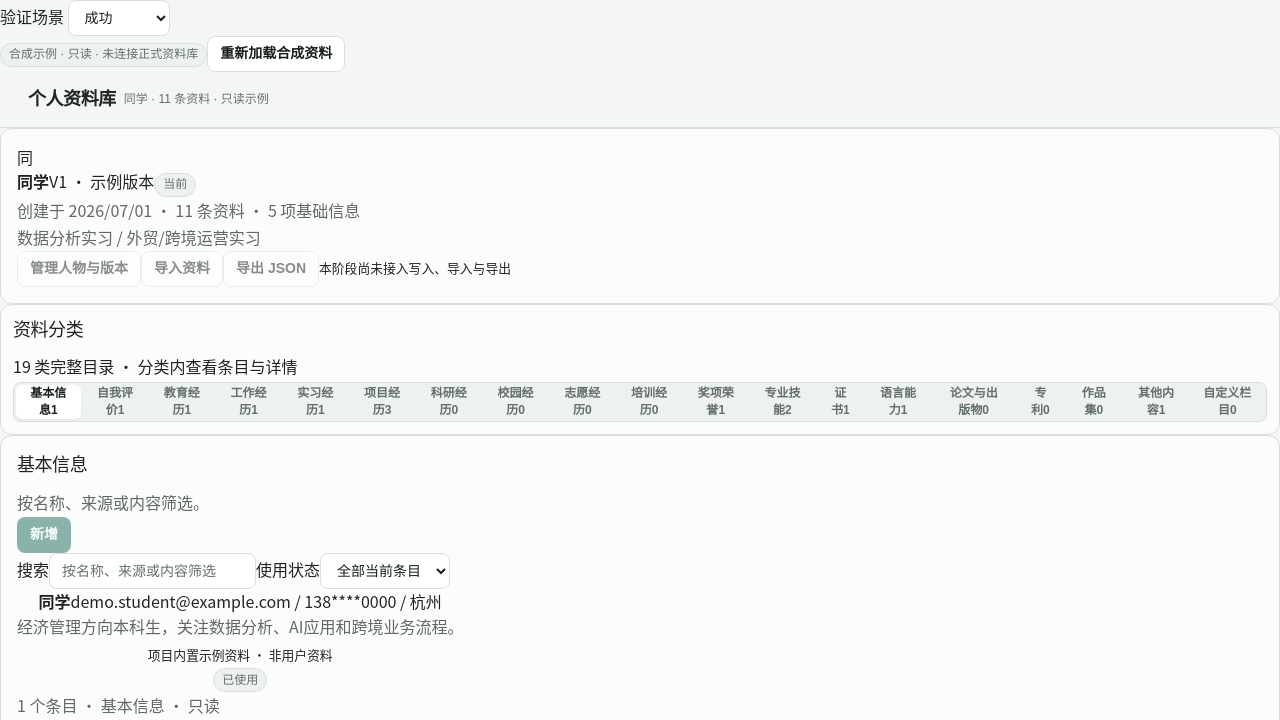
Test: P522 Host experience › restores all categories and list/detail selection in the single read-only Profile route
Check: the tab "基本信息1" is shown, box [16, 386, 81, 419]
Check: the element named "当前人物与版本" shows "V1", box [49, 169, 154, 193]
Click the tab "项目经历3": [382, 402] box [350, 386, 414, 419]
(page scrolled)
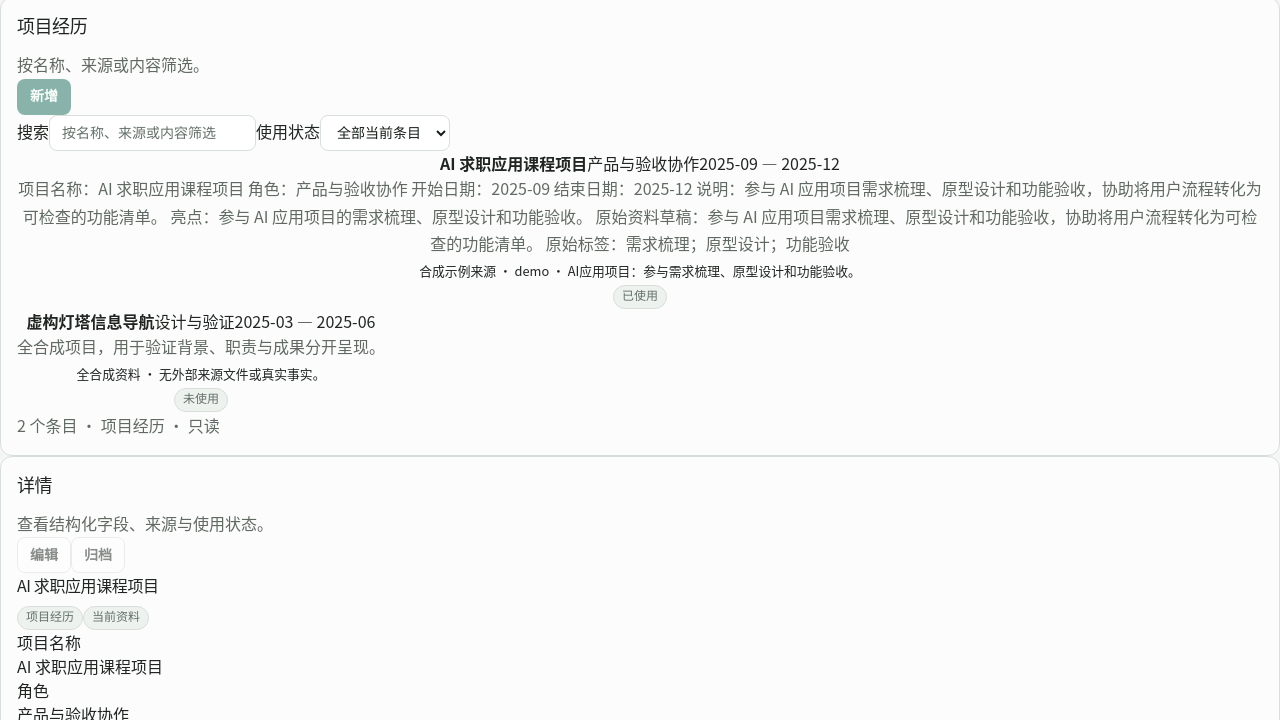
Click the button "虚构灯塔信息导航": [201, 360] box [17, 309, 385, 412]
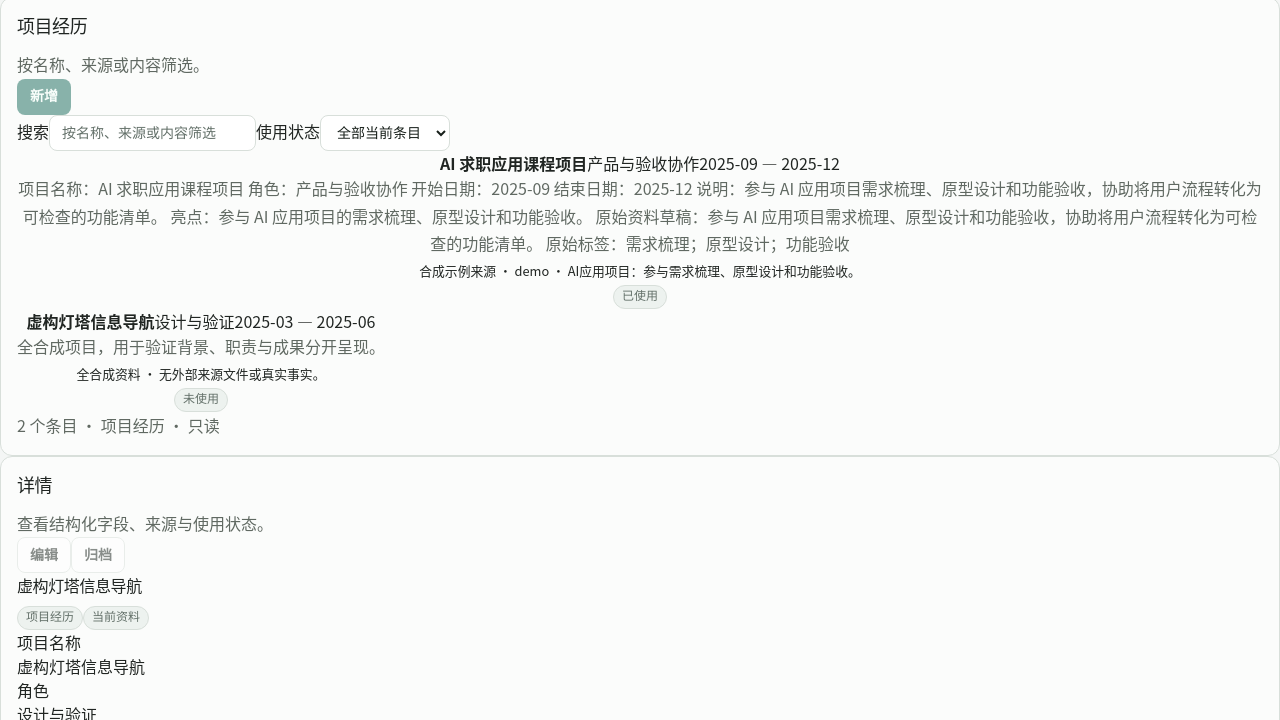
Check: the button "编辑" is disabled, box [17, 537, 71, 573]
In the field named "搜索资料": [152, 134] box [49, 116, 256, 152], type "不存在的搜索"
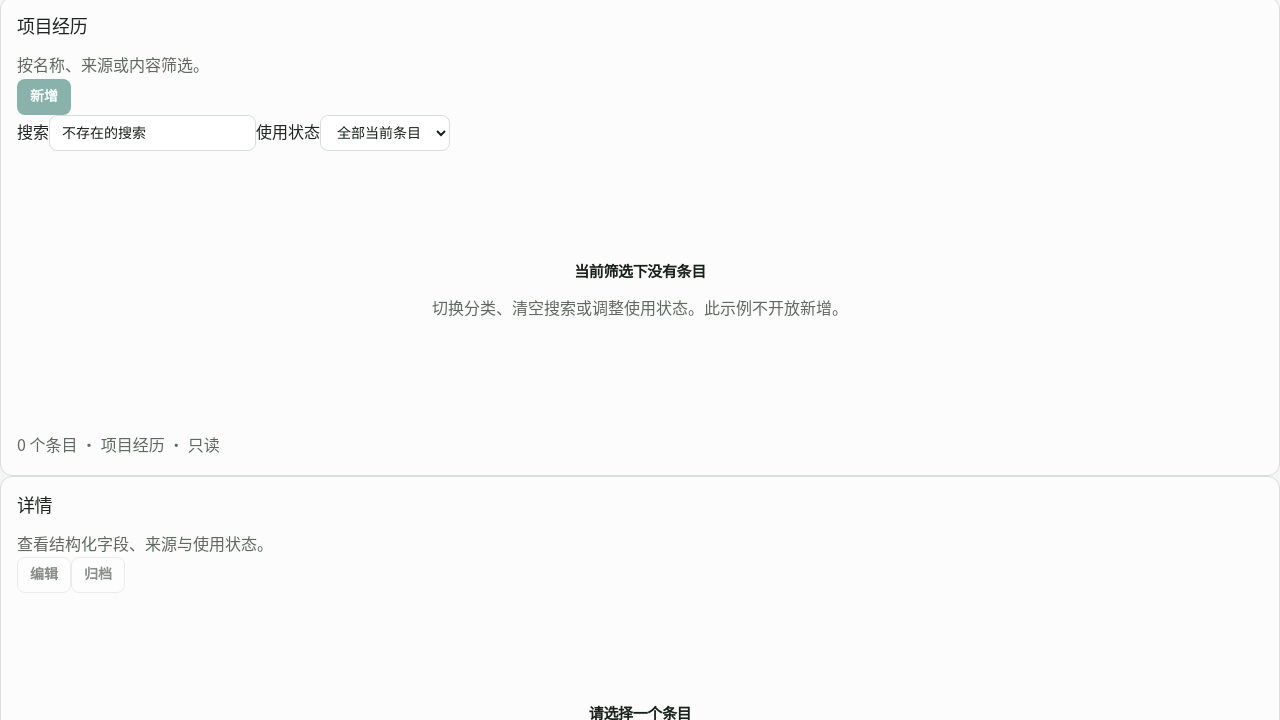
Check: the heading "当前筛选下没有条目" is shown, box [574, 261, 706, 282]
Clear the field named "搜索资料": [152, 134] box [49, 116, 256, 152]
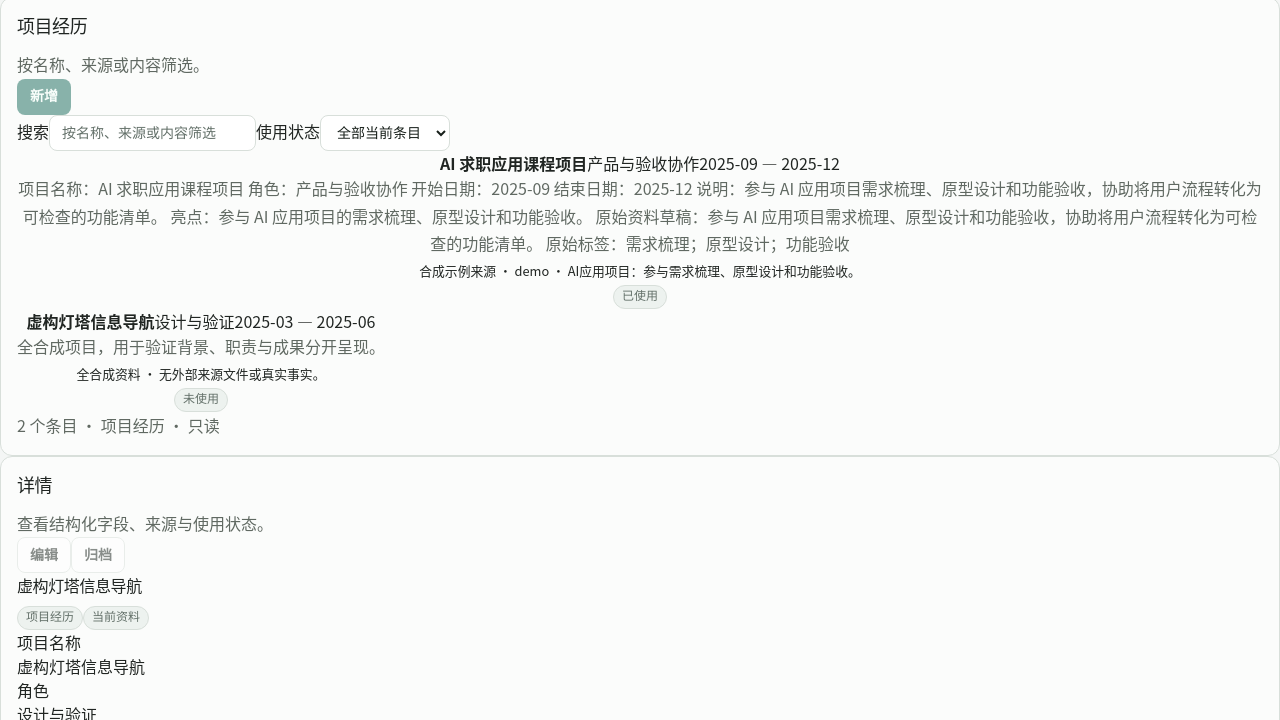
Select "已归档" in the dropdown labelled "使用状态": [385, 133] box [320, 115, 450, 151]
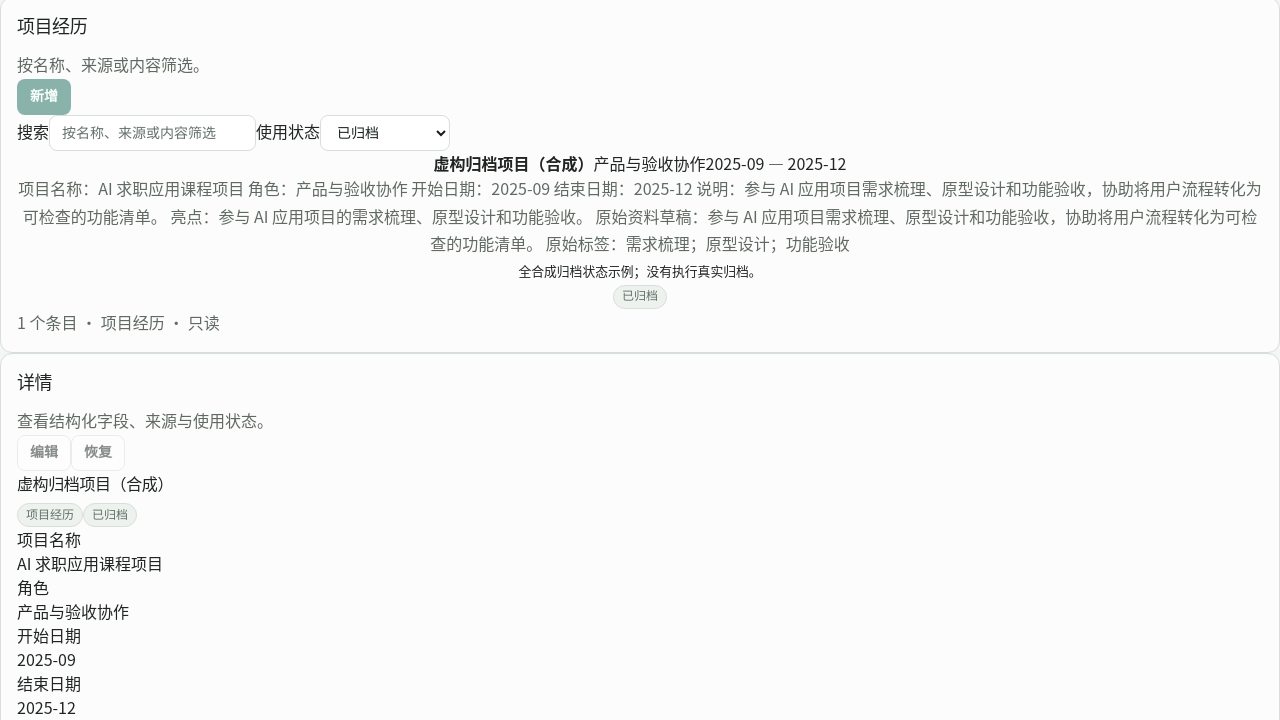
Check: the button "恢复" is disabled, box [71, 434, 125, 470]
Check: the element named "资料详情" shows "虚构归档项目", box [17, 470, 173, 494]
